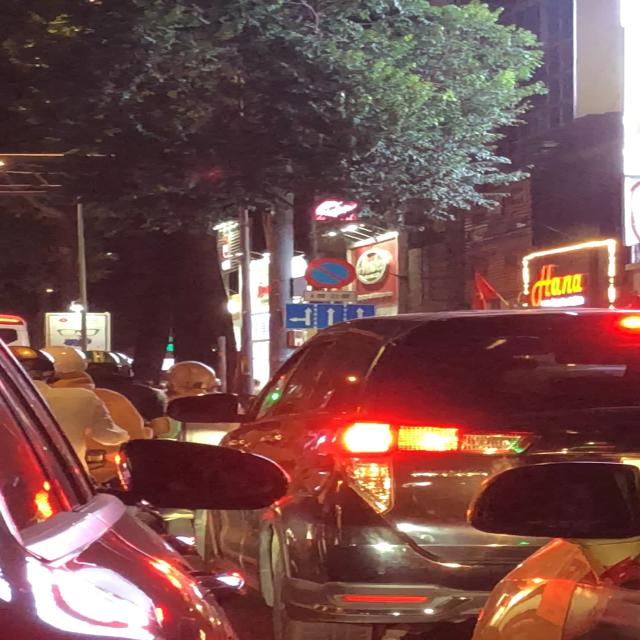Bien bao cam do xe: (301, 256, 362, 290)
